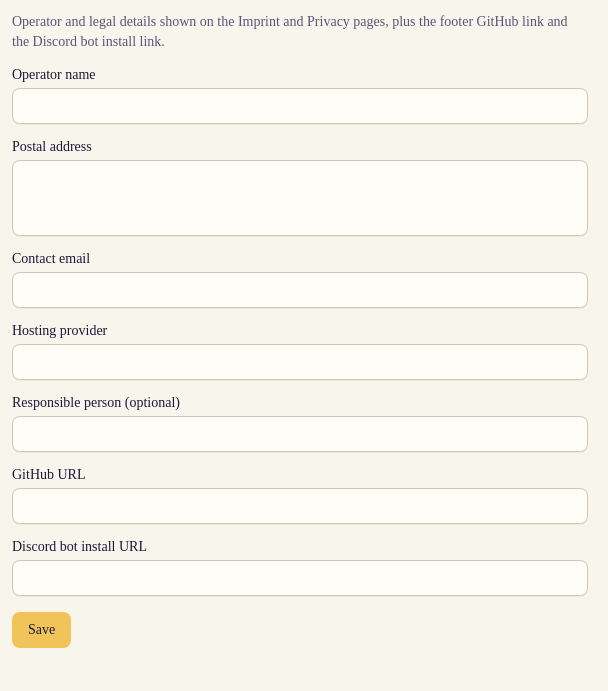
it: SiteSettingsForm › shows a reactive validation error for a bad email and does not submit
Type "nope" into the field labelled "Contact email". click: (300, 290)
box: [12,272,588,308]
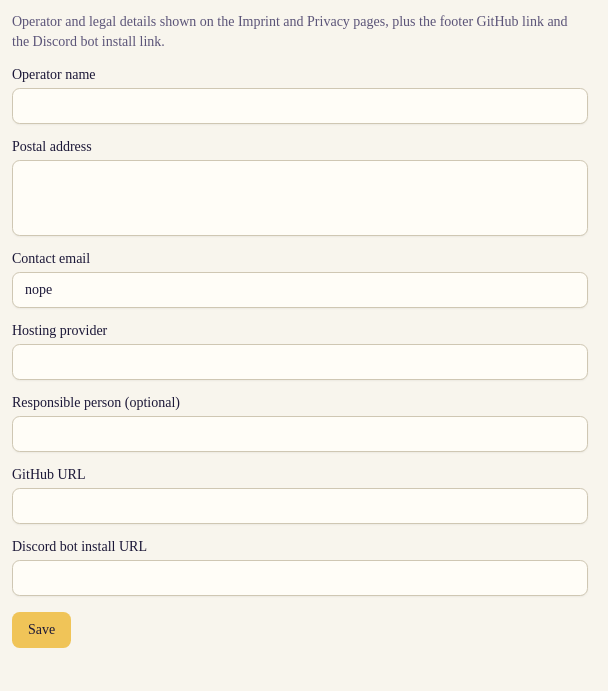
Click the button "Save". click: (42, 630)
box: [12,612,71,648]
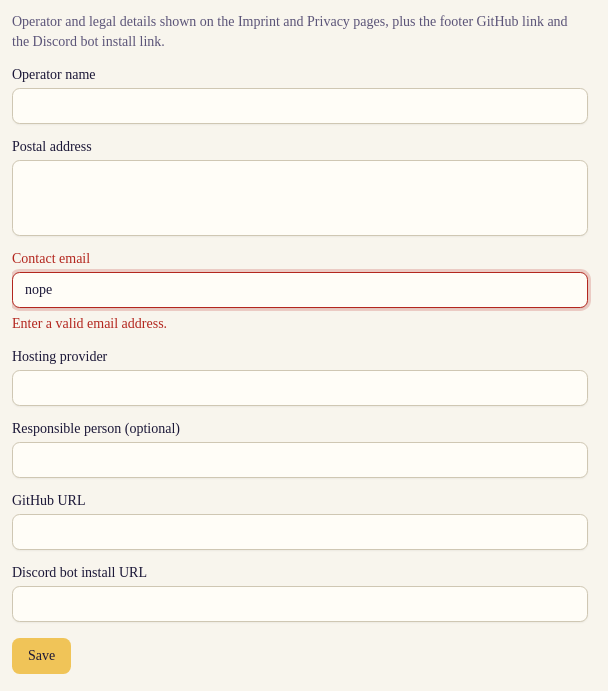
expect the text "Enter a valid email address." is shown: met, box [12,316,167,331]
reValidateMode: 'onChange' — correcting the field clears the error live.
Replace the text in the field labelled "Contact email" with "ok@x.com". click: (300, 290)
box: [12,272,588,308]
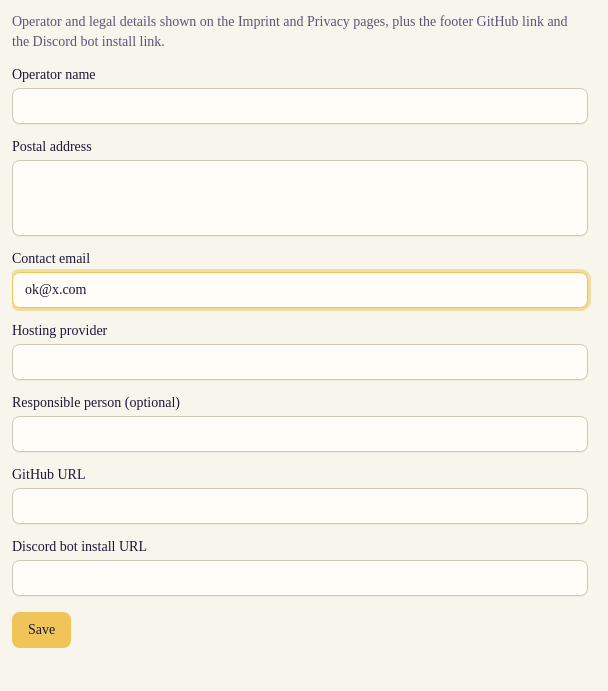
expect the text "Enter a valid email address." is gone: met
